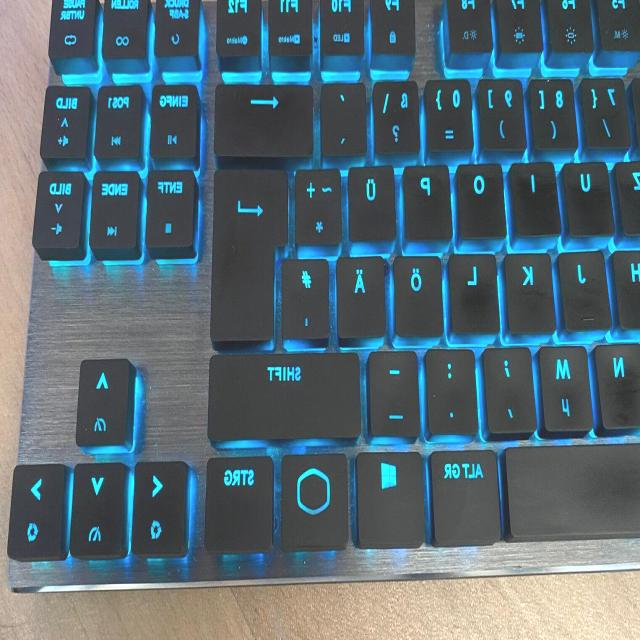0: (425, 74, 475, 156)
7: (582, 74, 632, 152)
8: (530, 75, 580, 153)
9: (479, 81, 525, 154)
accent: (316, 81, 369, 159)
ae: (335, 253, 389, 341)
altgr-right: (430, 446, 504, 546)
comma: (483, 343, 539, 435)
del: (213, 81, 316, 159)
enter: (211, 163, 291, 347)
h: (615, 245, 640, 329)
hash: (281, 254, 332, 342)
i: (511, 158, 562, 236)
j: (560, 247, 612, 331)
k: (505, 249, 557, 335)
keyboard: (6, 0, 640, 599)
l: (448, 249, 502, 334)
m: (539, 340, 595, 434)
minus: (368, 347, 422, 439)
n: (596, 338, 640, 430)
o: (457, 161, 509, 239)
oe: (394, 252, 446, 338)
p: (403, 161, 455, 240)
plus: (295, 164, 344, 248)
point: (425, 344, 479, 435)
shift-right: (207, 348, 364, 440)
space: (505, 438, 640, 538)
ss: (372, 79, 422, 159)
strg-right: (203, 454, 277, 552)
u: (563, 158, 616, 237)
ue: (348, 162, 398, 242)
z: (617, 157, 640, 234)
